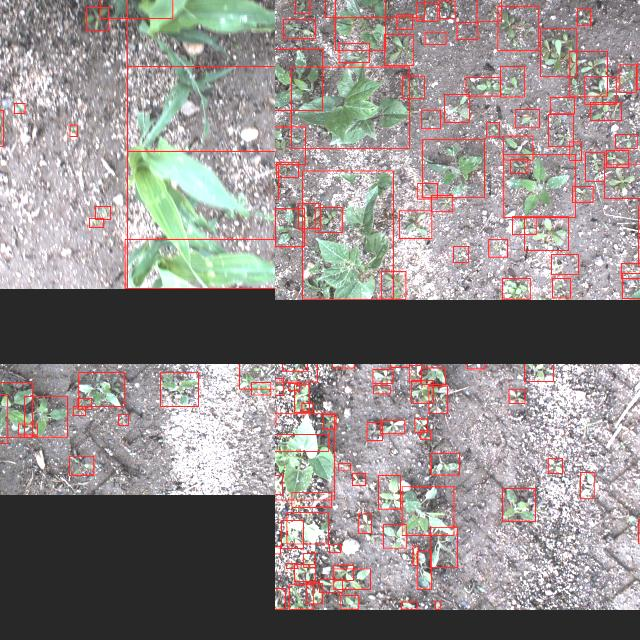crop: (126, 65, 275, 288), (126, 0, 275, 151), (302, 170, 392, 300), (291, 66, 409, 148), (124, 239, 275, 289), (275, 414, 333, 500), (335, 0, 385, 50), (324, 0, 423, 17), (286, 512, 328, 544), (99, 0, 172, 18)
weed: (504, 154, 574, 218), (422, 140, 484, 198), (275, 48, 322, 109), (401, 486, 453, 536), (497, 5, 537, 50), (569, 50, 607, 96), (540, 28, 576, 76), (24, 397, 66, 438), (0, 382, 31, 437), (78, 372, 124, 406), (524, 217, 568, 251), (603, 163, 640, 198), (160, 373, 198, 407), (429, 526, 456, 568), (275, 126, 304, 164), (502, 488, 534, 522), (275, 209, 303, 247), (383, 34, 412, 66), (238, 364, 275, 389), (275, 434, 328, 451), (399, 211, 431, 239), (584, 76, 616, 104), (332, 568, 370, 590), (548, 114, 572, 146), (378, 475, 400, 509), (275, 364, 316, 382), (380, 272, 406, 300), (502, 136, 532, 160), (500, 66, 524, 96), (464, 77, 500, 96), (288, 584, 314, 610), (444, 94, 468, 122), (430, 453, 460, 475), (283, 18, 315, 38), (291, 492, 331, 508), (315, 208, 341, 232), (338, 43, 369, 63), (501, 278, 529, 300), (281, 520, 303, 548), (584, 152, 604, 182), (382, 524, 406, 548), (550, 254, 578, 274), (428, 385, 448, 413), (416, 550, 430, 590), (590, 102, 620, 120), (85, 7, 108, 30), (297, 204, 319, 228), (475, 0, 500, 21), (68, 456, 94, 476), (411, 381, 433, 404), (523, 364, 552, 381), (401, 76, 423, 98), (514, 109, 538, 128), (619, 64, 635, 92), (512, 217, 536, 235), (550, 96, 574, 114), (606, 150, 628, 168), (294, 384, 308, 412), (421, 368, 445, 384), (431, 194, 452, 212), (417, 2, 438, 20), (457, 22, 478, 40), (579, 472, 593, 498), (552, 278, 570, 298), (420, 110, 440, 128), (294, 564, 314, 582), (276, 162, 298, 178), (488, 239, 507, 257), (380, 420, 404, 434), (572, 186, 592, 202), (417, 183, 437, 199), (306, 584, 322, 604), (614, 134, 636, 148), (366, 422, 382, 440), (318, 580, 342, 592), (620, 264, 640, 278), (250, 382, 270, 396), (372, 369, 392, 383), (333, 566, 353, 580), (339, 596, 358, 610), (424, 32, 446, 44), (438, 2, 454, 18), (452, 246, 468, 262), (546, 458, 562, 474), (509, 159, 527, 173), (576, 8, 590, 26), (358, 514, 370, 534), (396, 14, 412, 28), (508, 389, 524, 403), (322, 414, 336, 430), (569, 142, 581, 160), (275, 588, 285, 609), (94, 207, 110, 220), (294, 0, 309, 13), (486, 122, 498, 138), (18, 424, 36, 434), (410, 364, 420, 382), (414, 418, 426, 432), (303, 553, 315, 567), (88, 218, 104, 228), (77, 398, 91, 409), (281, 364, 306, 370), (352, 473, 364, 485), (372, 385, 390, 393), (72, 406, 84, 416), (118, 414, 128, 426), (412, 546, 418, 566), (275, 378, 282, 395), (275, 475, 281, 494), (402, 602, 416, 610), (13, 103, 24, 113), (328, 544, 339, 554), (636, 63, 640, 89), (420, 430, 430, 440), (69, 124, 77, 136), (302, 403, 312, 411), (466, 364, 484, 368), (338, 464, 350, 470), (288, 384, 298, 391), (434, 600, 440, 610), (285, 564, 297, 568), (275, 546, 280, 553)
